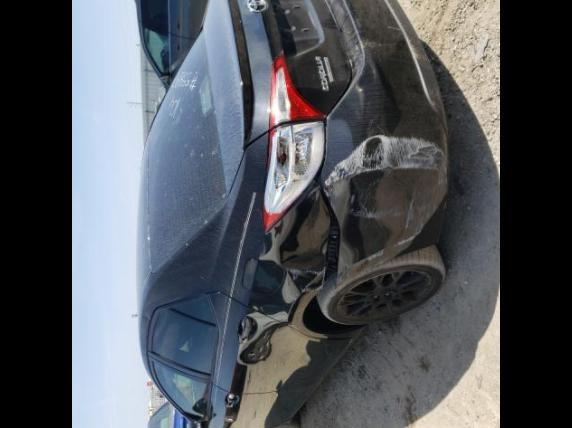Broken part: (263, 119, 325, 232), (306, 157, 346, 287)
Dent: (325, 135, 445, 285), (370, 40, 445, 141), (275, 182, 340, 275), (355, 62, 374, 90)
Flaking: (408, 41, 430, 61)
Missing part: (274, 0, 319, 40)
Scratch: (326, 135, 446, 184), (350, 169, 446, 230), (348, 249, 383, 267), (303, 268, 326, 291), (397, 231, 419, 243)
